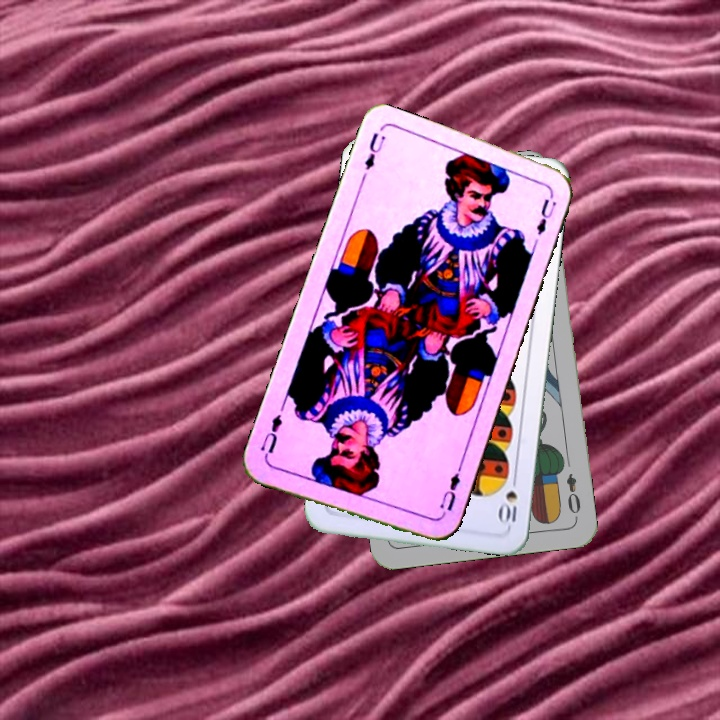EO: (562, 469, 584, 521)
EU: (432, 463, 463, 521), (360, 129, 388, 173)
S10: (496, 470, 520, 529)
